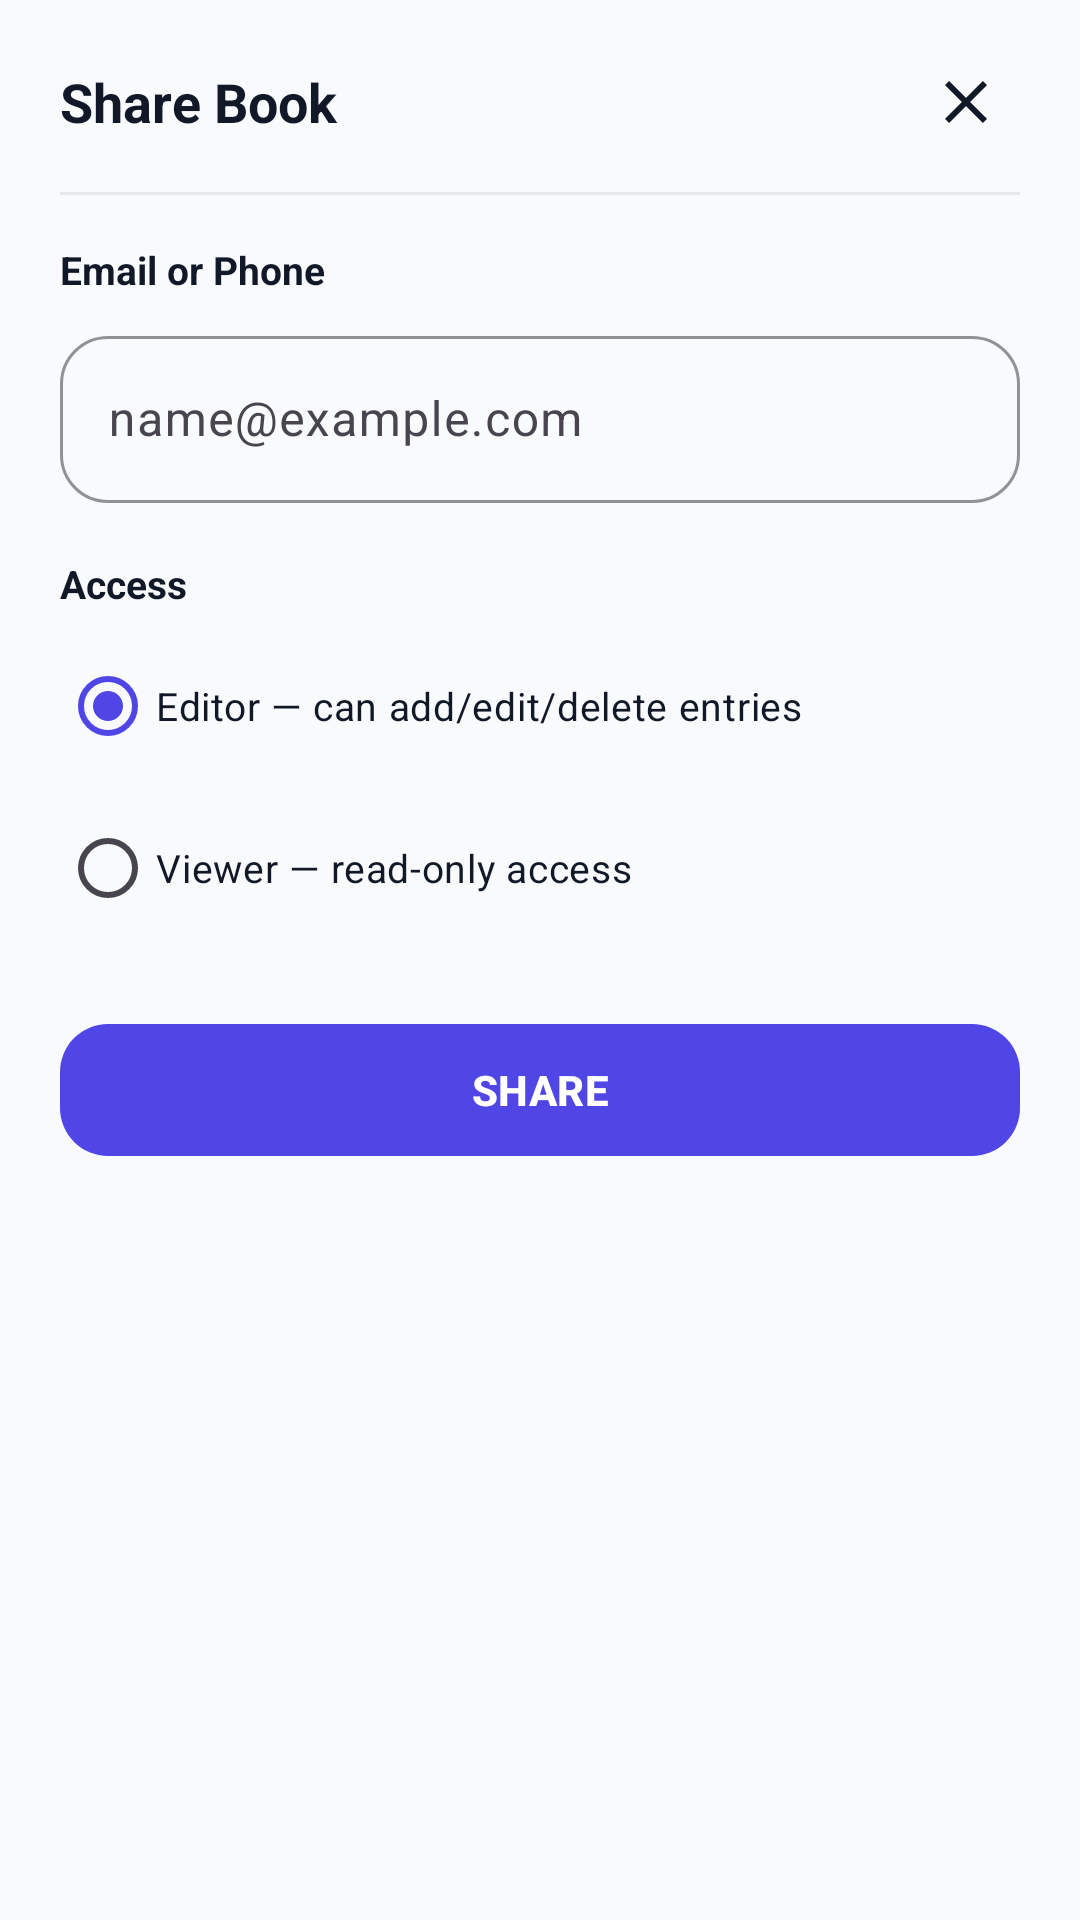

Named icons in this screenshot (1080x1920) and their centers, (x,y):
Close: (966,102)
